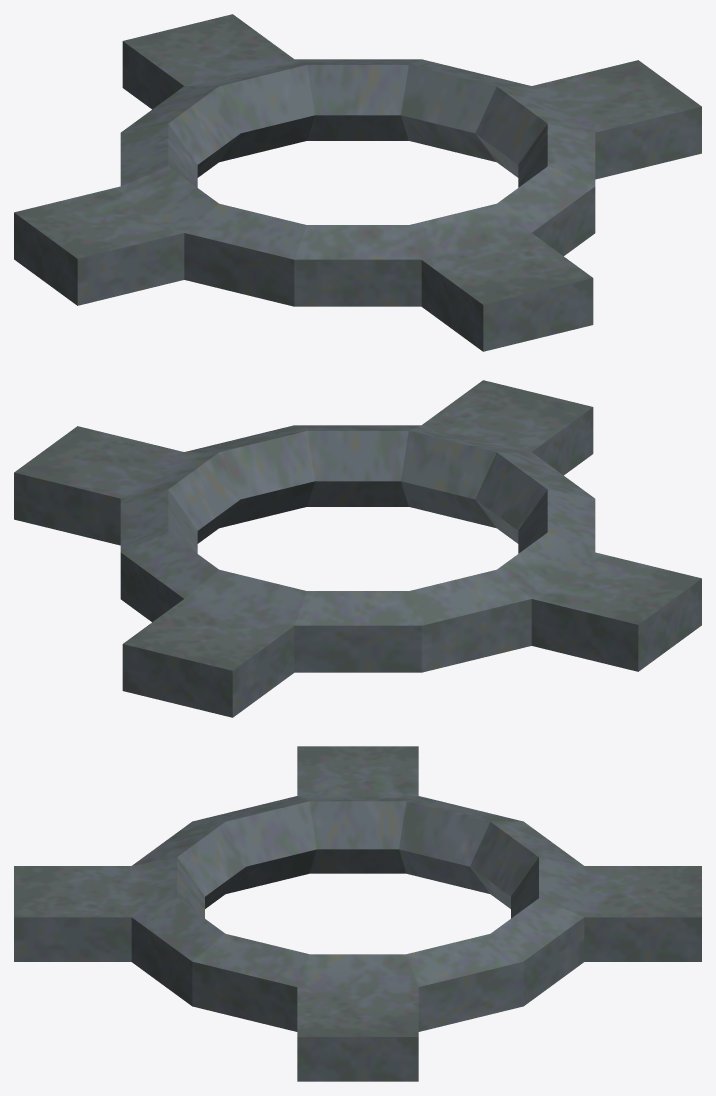
The model's file is Coupling.obj.
3 views of the same model, one above another, from view 1: azimuth 30°, elevation 25°; view 2: azimuth 150°, elevation 25°; view 3: azimuth 270°, elevation 25° (orthographic). The views are drawn at different scales.
Parts seen in each view (by area): view 1: Coupling; view 2: Coupling; view 3: Coupling.
Boxes of the visible parts, box(x1,y1,x2,y2) form: Coupling: box(14, 14, 701, 351); Coupling: box(14, 380, 701, 717); Coupling: box(14, 746, 701, 1081).
Size of the model in its own units: 16.09 by 1.87 by 16.09.
Materials: 1 (1 with a texture image).
